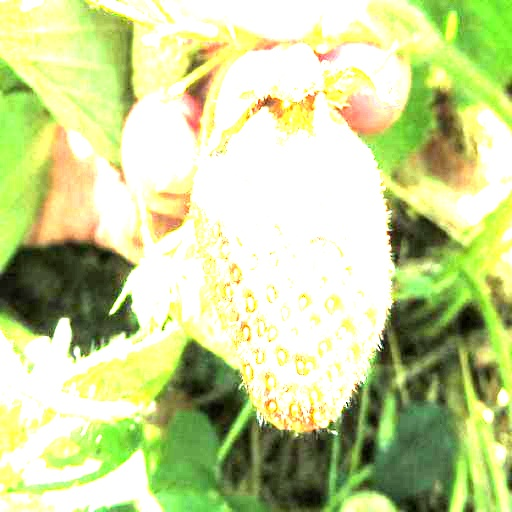Gray Mold: (191, 57, 390, 429)
